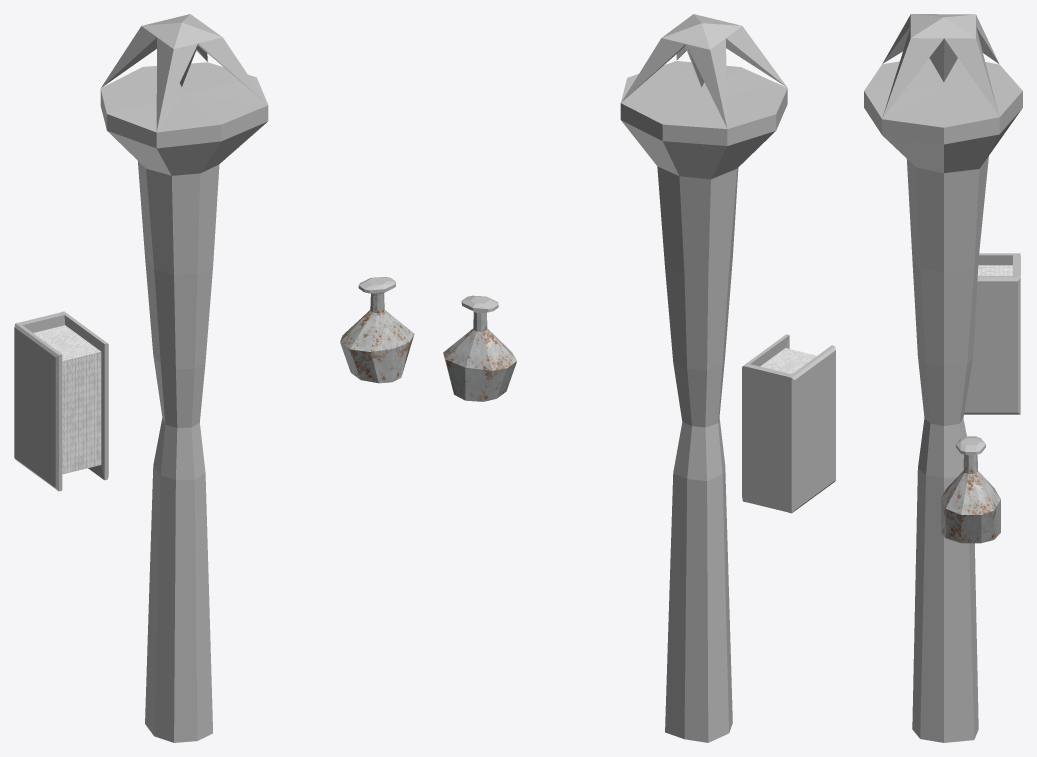
Rendered from EqipWizard.fbx.
3 renders of one model, left to right at view 1: azimuth 30°, elevation 25°; view 2: azimuth 150°, elevation 25°; view 3: azimuth 270°, elevation 25°, orthographic.
Parts seen in each view (by area): view 1: Cube.001, Cube, Cube.002; view 2: Cube.001, Cube, Cube.002; view 3: Cube.001, Cube, Cube.002.
Part boxes in pixels (box(x1,y1,x2,y2)): Cube.001: box(100, 14, 268, 742); Cube: box(14, 311, 108, 491); Cube.002: box(340, 277, 414, 383); Cube.001: box(620, 14, 787, 742); Cube: box(742, 334, 835, 513); Cube.002: box(443, 295, 516, 401); Cube.001: box(864, 14, 1022, 742); Cube: box(964, 253, 1020, 414); Cube.002: box(941, 436, 1000, 543).
Bounding box in the file's own units: 87.31 × 161 × 32.07.
